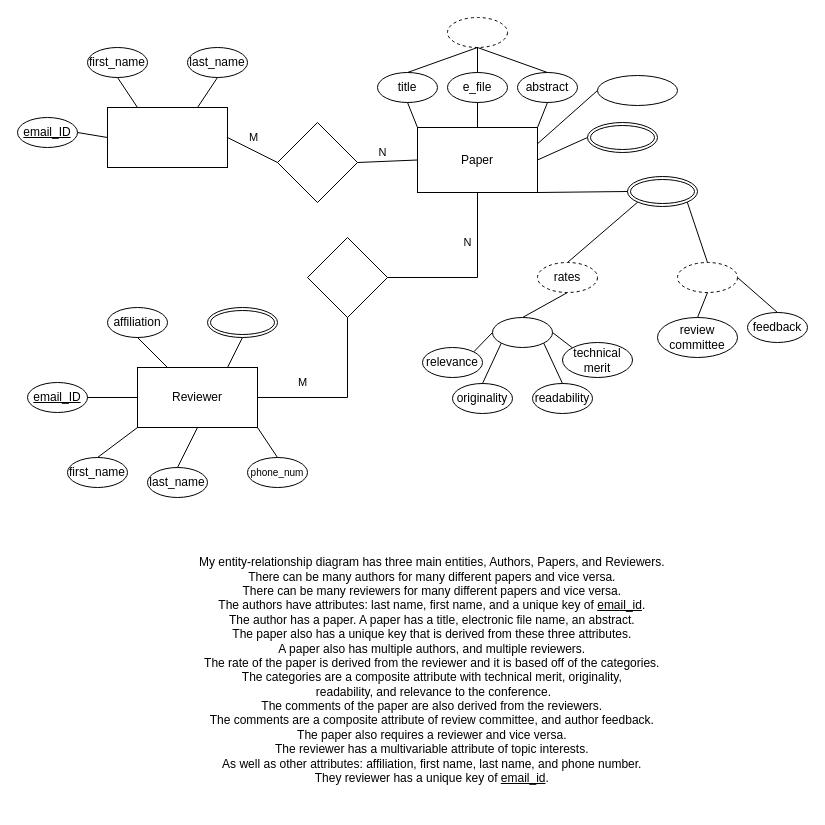
Some shapes in this 825 by 825 pixel diagram are drawn without their labels. The centre of each missing label's shape, as x and y in pixels:
"Author" belongs at point (167, 137).
"authors" belongs at point (622, 137).
"categories" belongs at point (522, 332).
"comments" belongs at point (707, 277).
"contact_author" belongs at point (637, 90).
"has a" belongs at point (317, 162).
"interests" belongs at point (242, 322).
"paper_ID" belongs at point (477, 32).
"requires a" belongs at point (347, 277).
"reviewers" belongs at point (662, 191).
